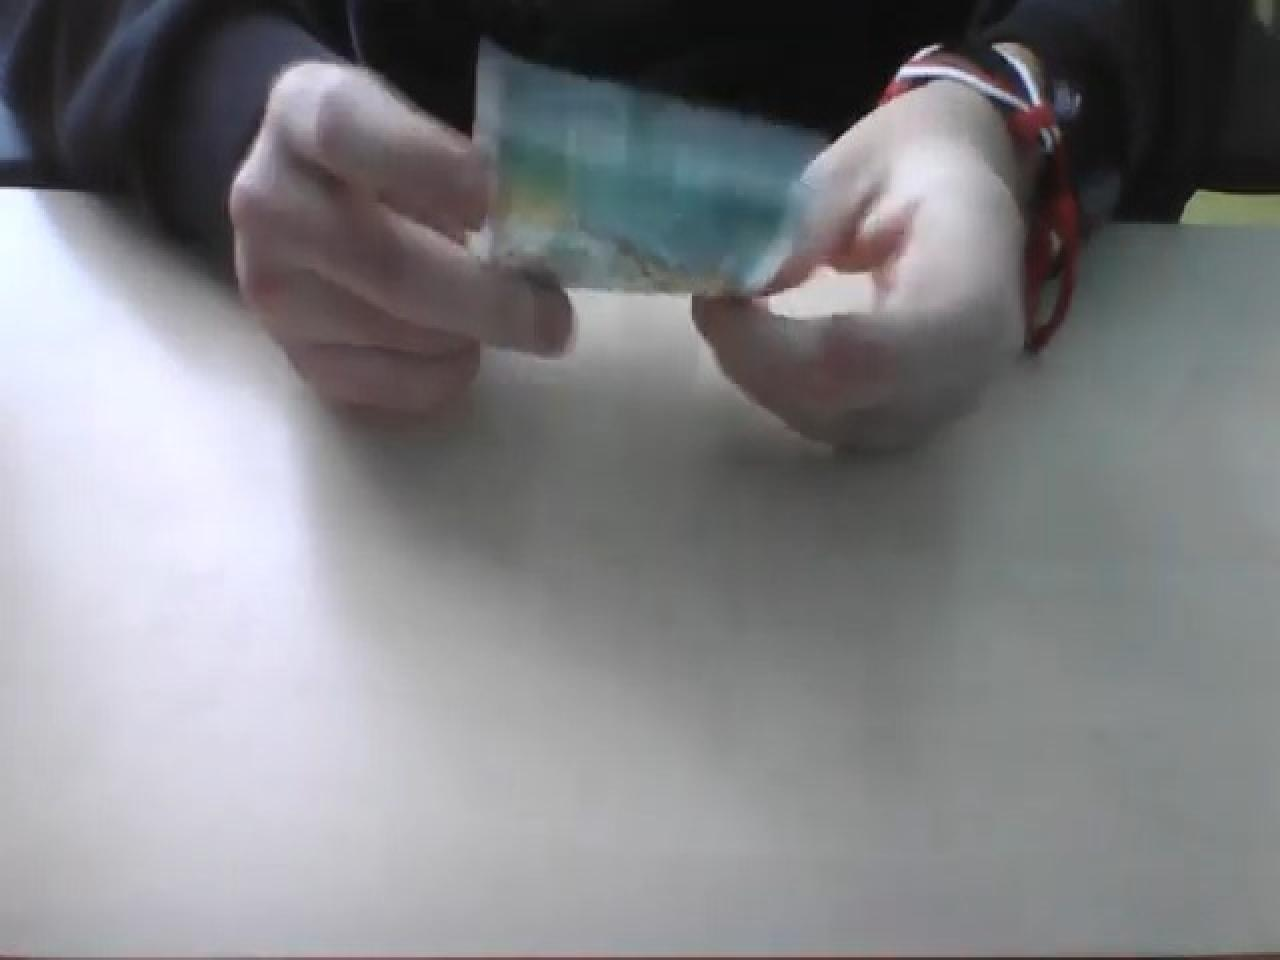100leva: (6, 0, 1272, 456), (466, 45, 828, 304)
